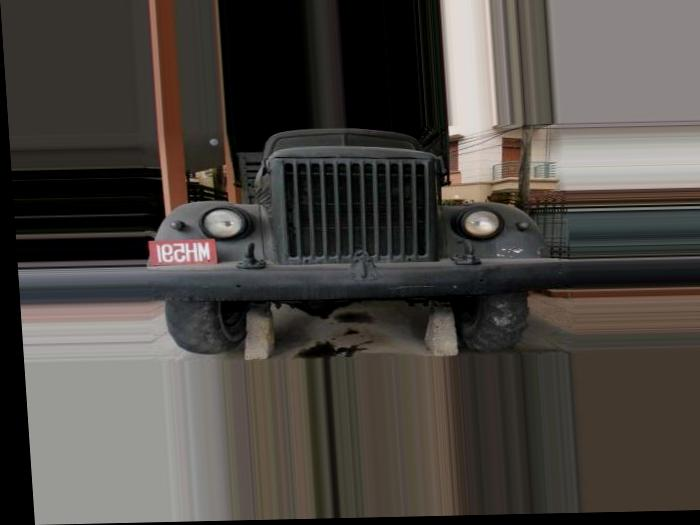License_Plate: (142, 235, 219, 269)
